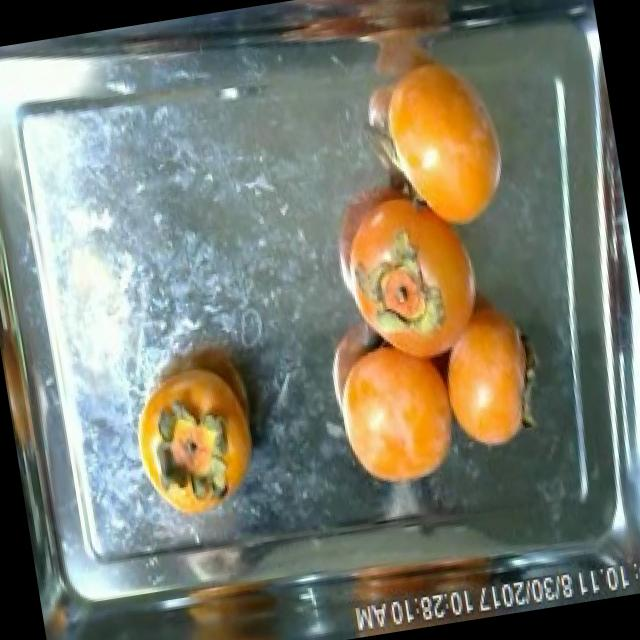Fruit: (362, 28, 528, 248), (324, 302, 480, 508), (422, 294, 551, 466), (122, 368, 248, 536)
